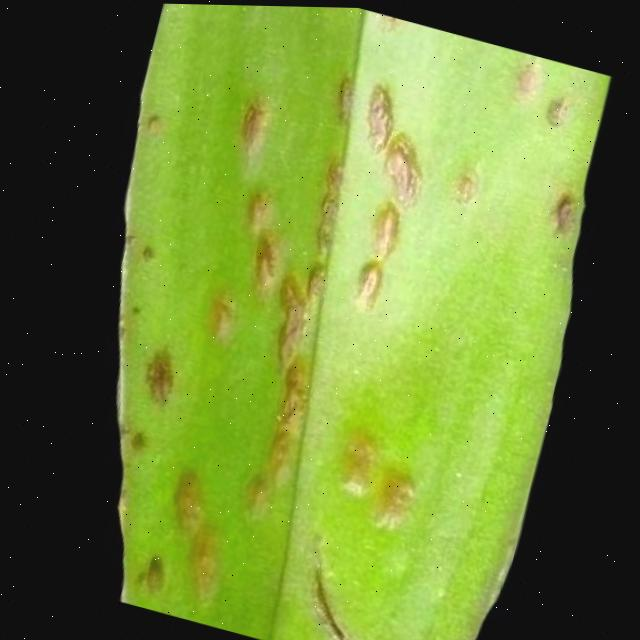mite: (82, 333, 445, 640), (114, 336, 438, 534), (176, 516, 228, 599), (161, 460, 210, 530), (234, 95, 267, 146), (133, 548, 169, 593), (540, 88, 572, 127)
spots: (3, 2, 633, 640)
